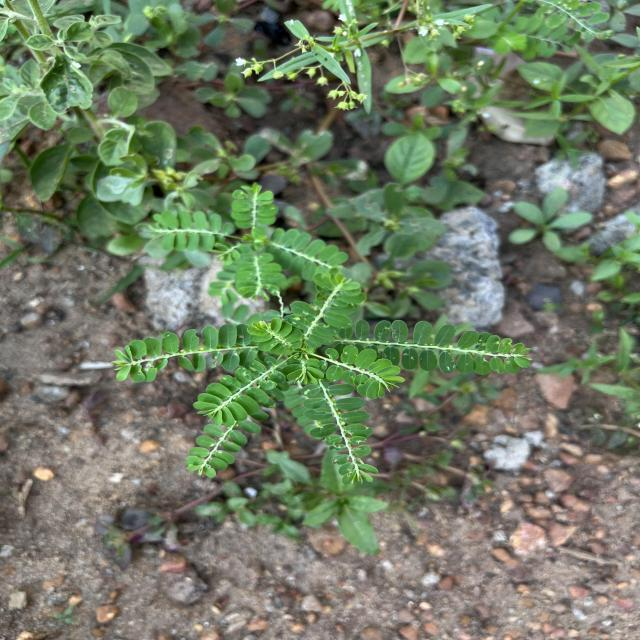Phyllanthus niruri: (346, 317, 536, 377), (110, 322, 258, 385), (300, 385, 380, 487), (192, 362, 287, 428), (318, 346, 404, 402), (246, 316, 306, 356)
